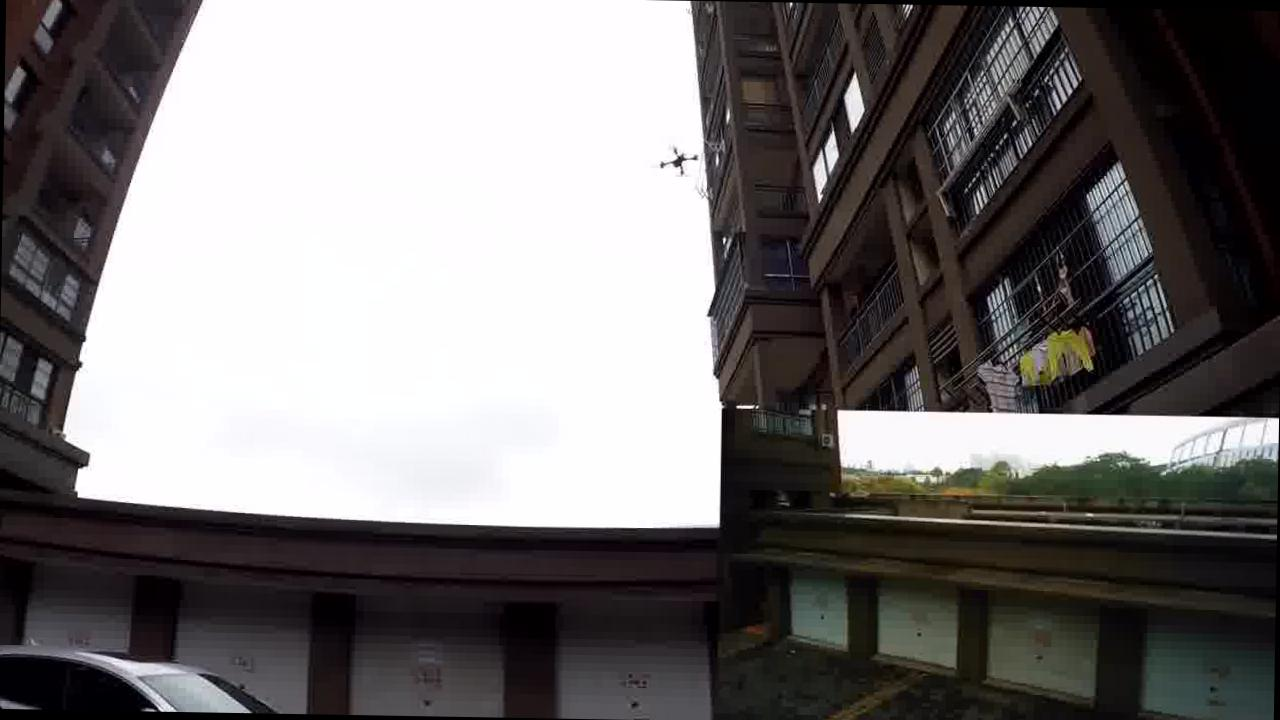drone: (657, 139, 702, 177)
